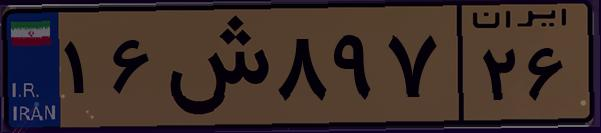1: (57, 26, 110, 100)
2: (475, 38, 525, 113)
6: (525, 38, 570, 115), (110, 28, 158, 98)
7: (385, 28, 445, 110)
8: (270, 28, 330, 110)
9: (330, 28, 385, 110)
ش: (158, 12, 270, 120)
